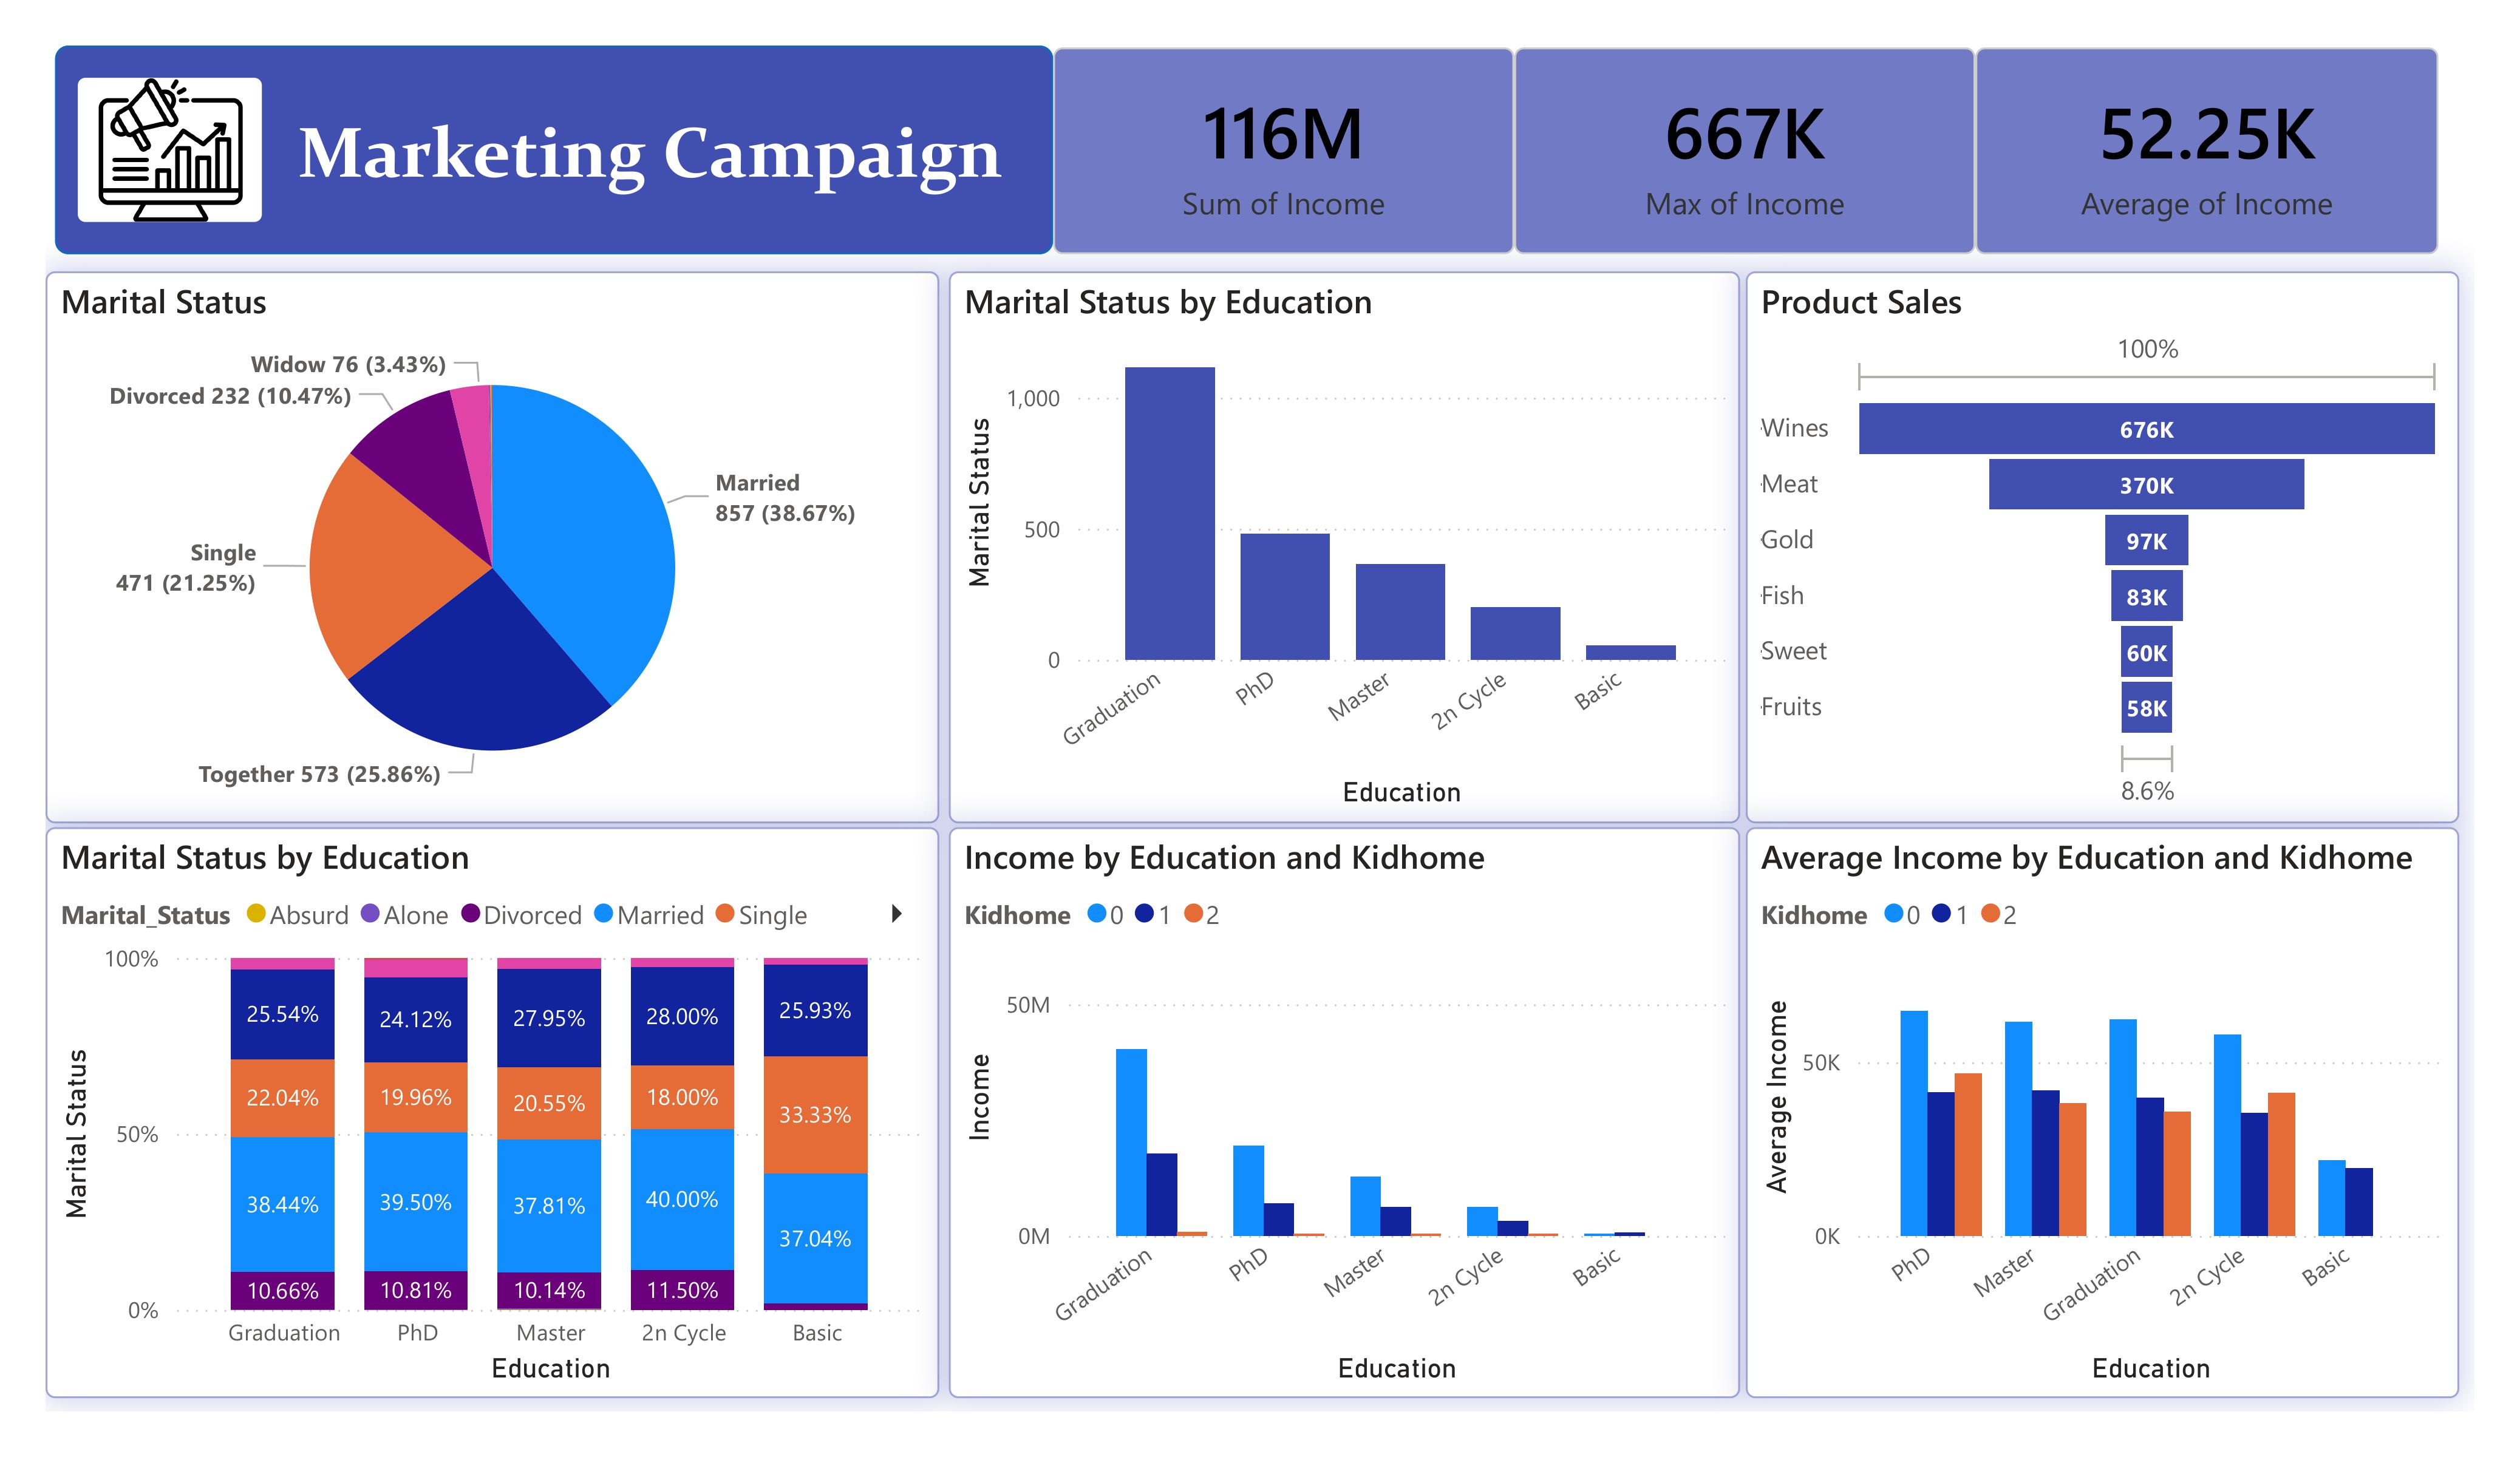

What the dashboard file says about the page in this screenshot:
{"tool":"powerbi","page":{"name":"cust_segment","canvas":[1280,720],"ordinal":1},"visuals":[{"type":"pieChart","title":"Marital Status","fields":{"Category":["Sheet1.Marital_Status"],"Y":["CountNonNull(Sheet1.Marital_Status)"]},"box":[0,118.6,470.8,291],"z":0},{"type":"columnChart","fields":{"Category":["Sheet1.Education"],"Y":["CountNonNull(Sheet1.Marital_Status)"]},"box":[475.7,118.6,417,291],"z":1000},{"type":"hundredPercentStackedColumnChart","title":"Marital Status by Education","fields":{"Category":["Sheet1.Education"],"Y":["CountNonNull(Sheet1.Marital_Status)"],"Series":["Sheet1.Marital_Status"]},"box":[0,412.1,470.8,300.8],"z":2000},{"type":"card","fields":{"Values":["Avg(Sheet1.Income)"]},"box":[1017.4,1.2,243.3,108.8],"z":3000},{"type":"funnel","title":"Product Sales","fields":{"Y":["Sum(Sheet1.MntWines)","Sum(Sheet1.MntMeatProducts)","Sum(Sheet1.MntGoldProds)","Sum(Sheet1.MntFishProducts)","Sum(Sheet1.MntSweetProducts)","Sum(Sheet1.MntFruits)"]},"box":[896.3,118.6,375.4,291],"z":4000},{"type":"clusteredColumnChart","title":"Income by Education and Kidhome","fields":{"Category":["Sheet1.Education"],"Series":["Sheet1.Kidhome"],"Y":["Sum(Sheet1.Income)"]},"box":[475.7,412.1,417,300.8],"z":5000},{"type":"clusteredColumnChart","title":"Average Income by Education and Kidhome","fields":{"Category":["Sheet1.Education"],"Series":["Sheet1.Kidhome"],"Y":["Avg(Sheet1.Income)"]},"box":[896.3,412.1,375.4,300.8],"z":6000},{"type":"shape","box":[4.9,0,525.8,110.1],"z":7000},{"type":"textbox","box":[77,28.1,483,73.4],"z":8000},{"type":"card","fields":{"Values":["Max(Sheet1.Income)"]},"box":[774.1,1.2,243.3,108.8],"z":9000},{"type":"card","fields":{"Values":["Sum(Sheet1.Income)"]},"box":[530.7,1.2,243.3,108.8],"z":10000},{"type":"image","box":[17.1,17.1,96.6,75.8],"z":10001}]}

Visuals, with their boxes in screenshot pixels (x1, y1, x2, y2):
"Marital Status" pieChart: left=46, top=271, right=939, bottom=823
columnChart - Sheet1.Education x CountNonNull(Sheet1.Marital_Status): left=948, top=271, right=1740, bottom=823
"Marital Status by Education" hundredPercentStackedColumnChart: left=46, top=827, right=939, bottom=1398
card - Avg(Sheet1.Income): left=1976, top=48, right=2438, bottom=254
"Product Sales" funnel: left=1746, top=271, right=2459, bottom=823
"Income by Education and Kidhome" clusteredColumnChart: left=948, top=827, right=1740, bottom=1398
"Average Income by Education and Kidhome" clusteredColumnChart: left=1746, top=827, right=2459, bottom=1398
shape: left=55, top=46, right=1052, bottom=254
textbox: left=192, top=99, right=1108, bottom=238
card - Max(Sheet1.Income): left=1514, top=48, right=1976, bottom=254
card - Sum(Sheet1.Income): left=1052, top=48, right=1514, bottom=254
image: left=78, top=78, right=261, bottom=222
